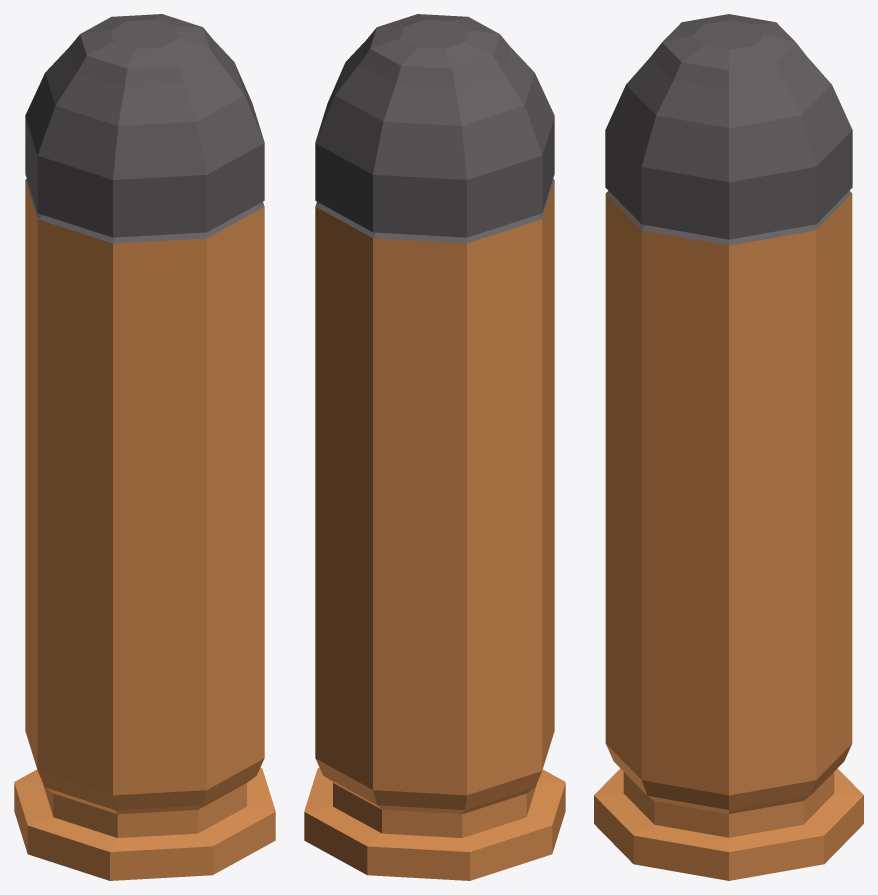
The model's file is Revolver Bullet.fbx.
The picture shows the model from 3 angles, left to right: view 1: azimuth 30°, elevation 25°; view 2: azimuth 150°, elevation 25°; view 3: azimuth 270°, elevation 25°; orthographic projection.
Parts seen in each view (by area): view 1: Casing, Bullet; view 2: Casing, Bullet; view 3: Casing, Bullet.
Boxes of the visible parts, box(x1,y1,x2,y2) form: Casing: box(14, 180, 275, 880); Bullet: box(25, 14, 264, 243); Casing: box(304, 180, 565, 880); Bullet: box(315, 14, 554, 243); Casing: box(594, 194, 863, 880); Bullet: box(605, 14, 852, 245).
Bounding box in the file's own units: 0.9846 × 3.17 × 0.9846.
